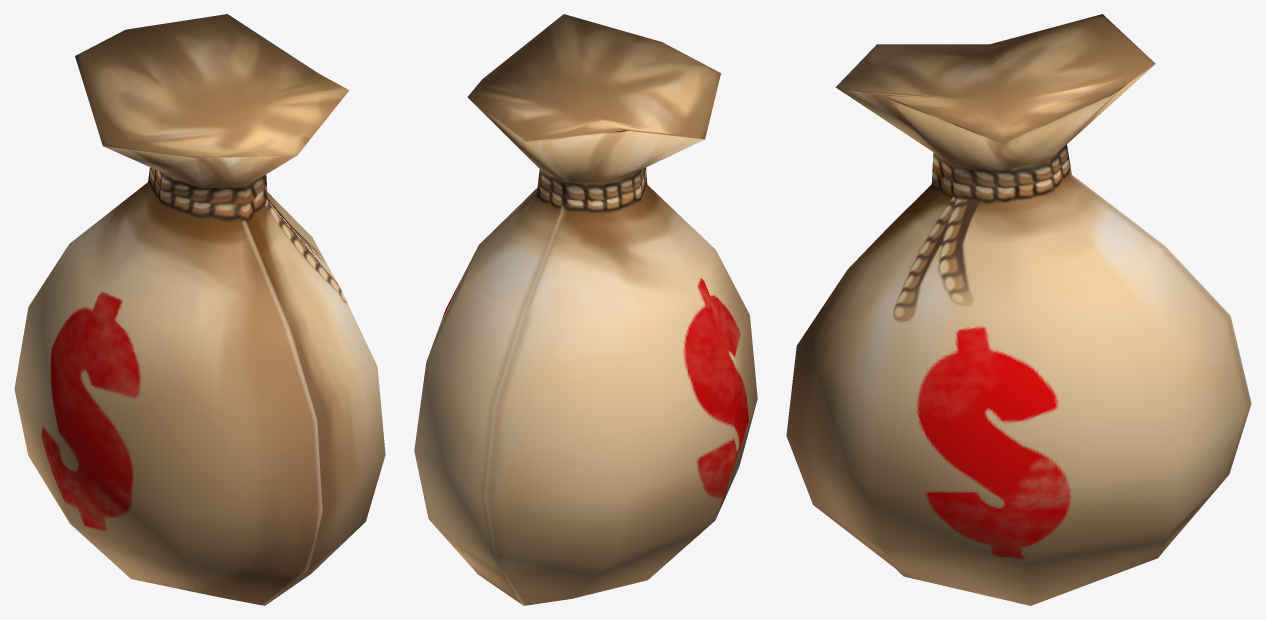
Rendered from Dollar_bad.fbx.
The picture shows the model from 3 angles, left to right: view 1: azimuth 30°, elevation 25°; view 2: azimuth 150°, elevation 25°; view 3: azimuth 270°, elevation 25°; orthographic projection. The views are drawn at different scales.
Parts seen in each view (by area): view 1: Dollar_bag1; view 2: Dollar_bag1; view 3: Dollar_bag1.
Part boxes in pixels (x1,y1,x2,y2): Dollar_bag1: (14, 14, 385, 605); Dollar_bag1: (414, 14, 757, 605); Dollar_bag1: (786, 14, 1251, 605).
Bounding box in the file's own units: 0.5304 × 0.89 × 0.6966.
